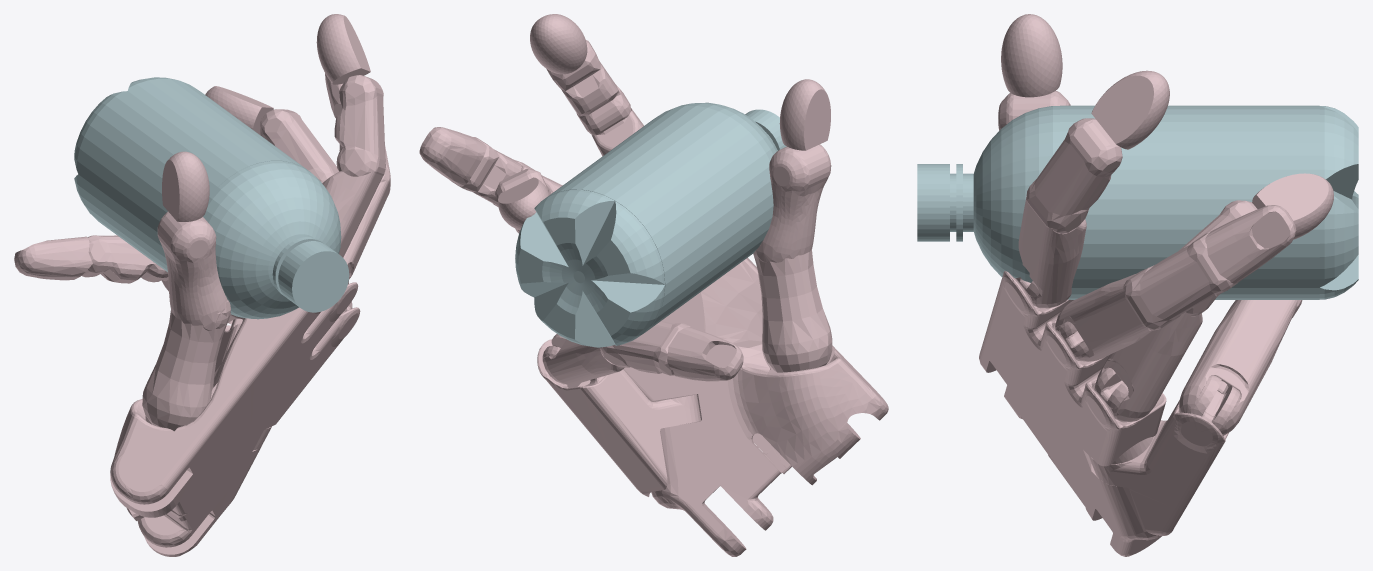
The model's file is grasp_1.glb.
3 views of the same model, side by side, from view 1: azimuth 30°, elevation 25°; view 2: azimuth 150°, elevation 25°; view 3: azimuth 270°, elevation 25° (orthographic). The views are drawn at different scales.
Parts seen in each view (by area): view 1: world; view 2: world; view 3: world.
Part boxes in pixels (x1,y1,x2,y2): world: (14, 14, 390, 556); world: (419, 14, 888, 556); world: (917, 14, 1358, 556).
Size of the model in its own units: 0.1466 by 0.1982 by 0.1365.
